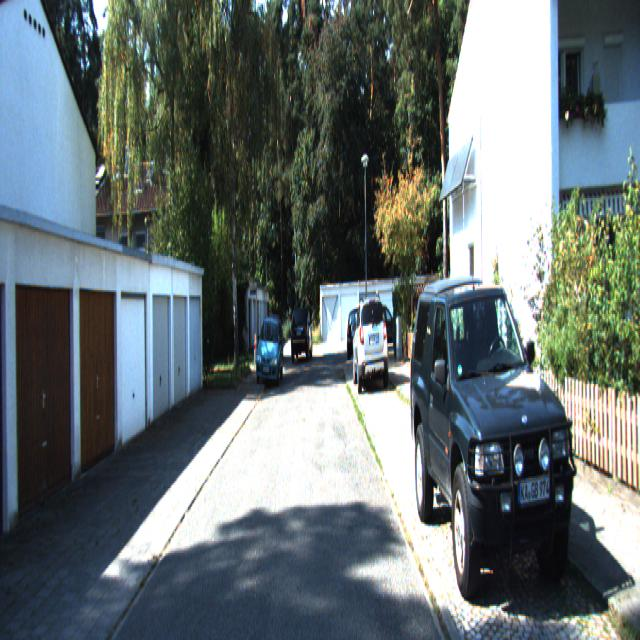Car: (409, 250, 582, 631), (352, 294, 388, 394), (255, 310, 283, 380), (290, 303, 312, 356)
